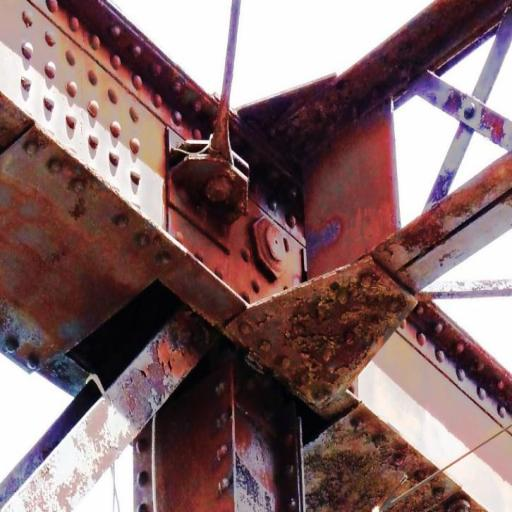corrosion: (218, 215, 431, 429), (0, 230, 247, 361), (275, 392, 436, 512)
